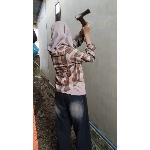Kapak: (74, 7, 98, 32)
